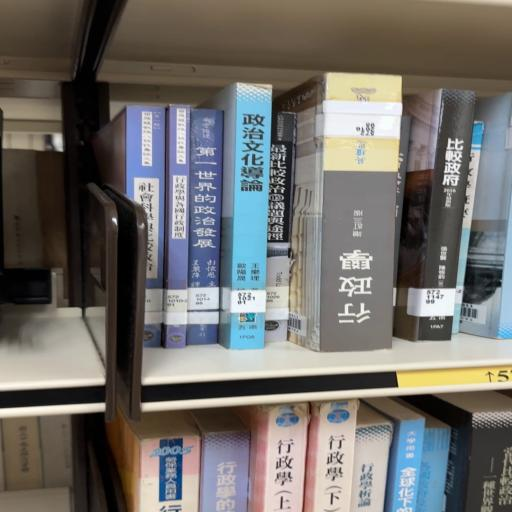reverse: (275, 74, 403, 353)
